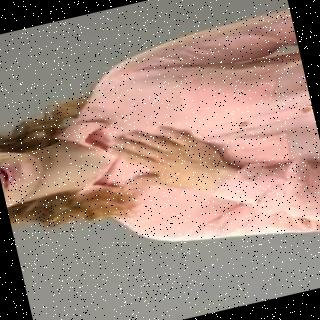Please: (103, 109, 220, 201)
